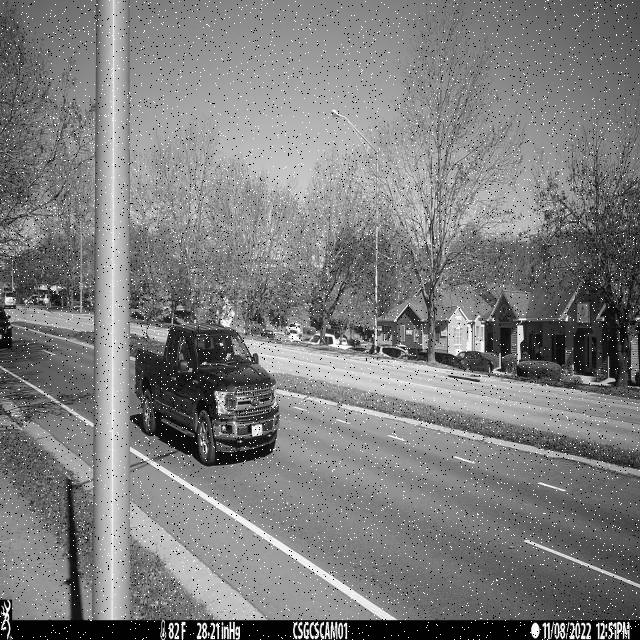Pickup: (135, 320, 281, 466)
